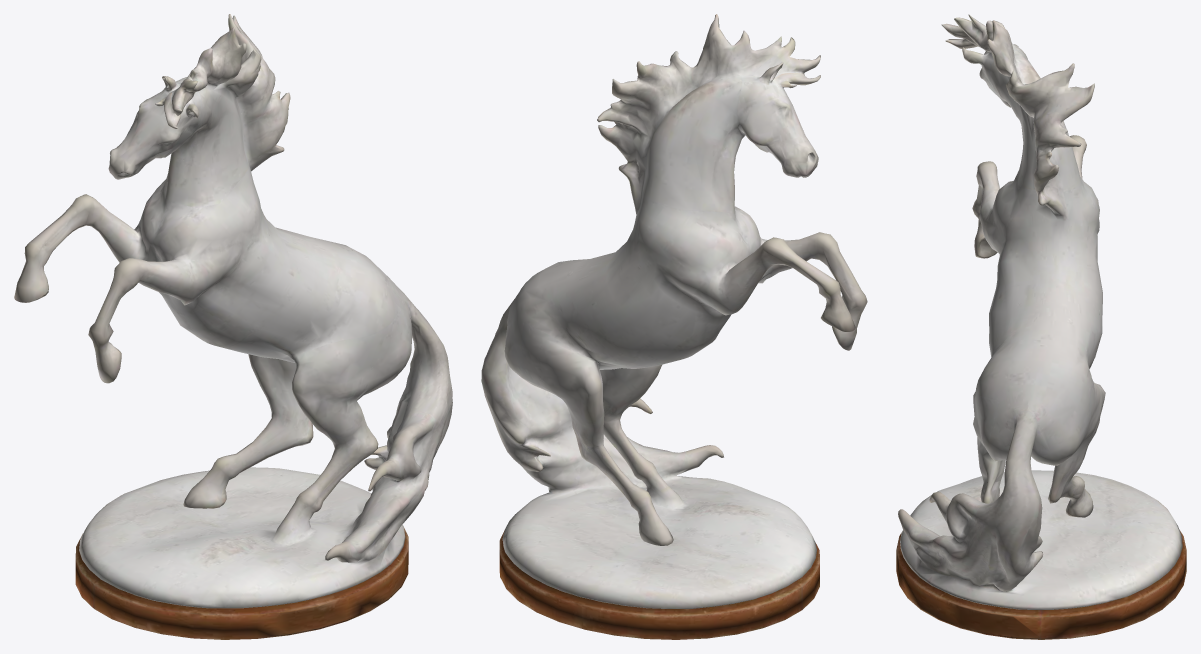
The model's file is horse_statue_01.glb.
3 renders of one model, left to right at view 1: azimuth 30°, elevation 25°; view 2: azimuth 150°, elevation 25°; view 3: azimuth 270°, elevation 25°, orthographic. The views are drawn at different scales.
Visible parts, largest first — view 1: horse_statue_01; view 2: horse_statue_01; view 3: horse_statue_01.
Part boxes in pixels (x1,y1,x2,y2): horse_statue_01: (14, 14, 452, 639); horse_statue_01: (481, 14, 867, 639); horse_statue_01: (896, 14, 1186, 639).
Bounding box in the file's own units: 0.1638 × 0.22 × 0.1078.
Materials: 1 (1 with a texture image).
